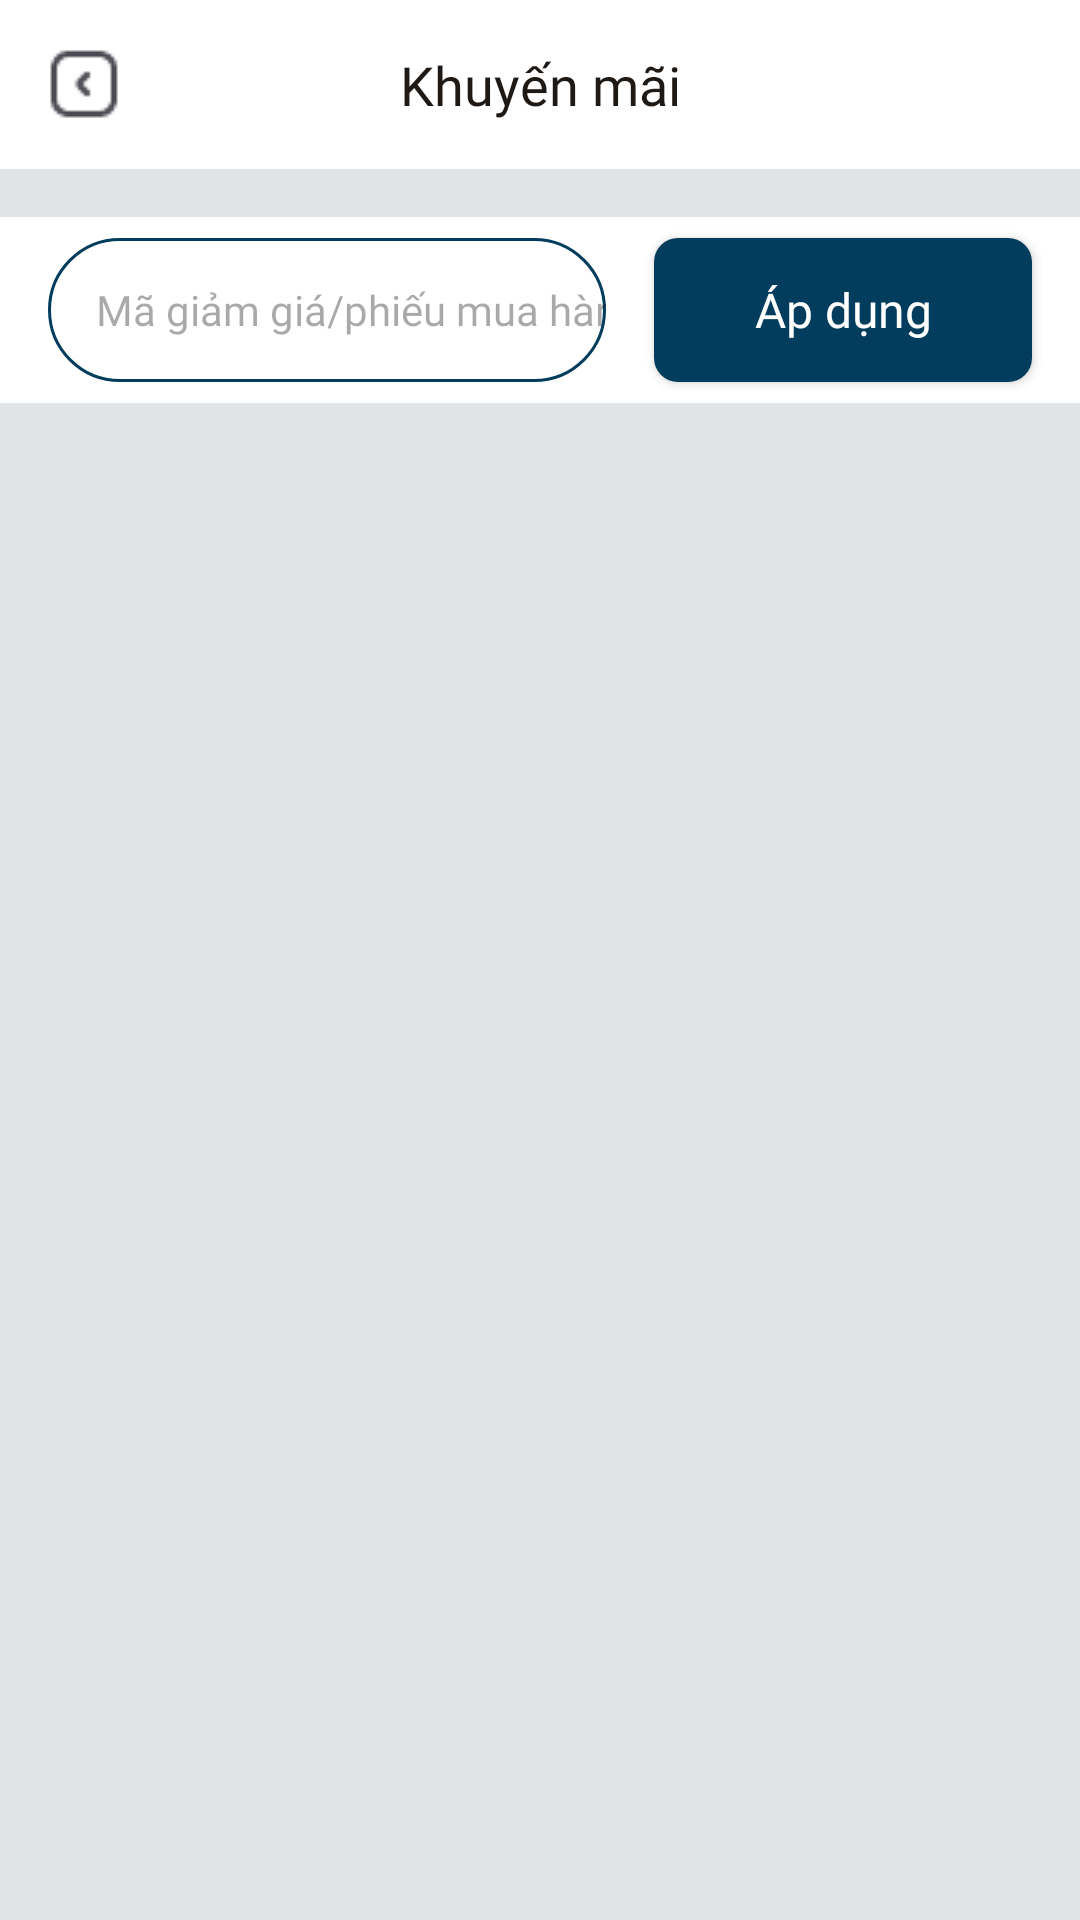

Named icons in this screenshot (1080px×1920px) and their bounding boxes, [x1=x1, y1=y1, x2=x2, y2=y2]:
square arrow left: [x1=50, y1=50, x2=118, y2=118]
